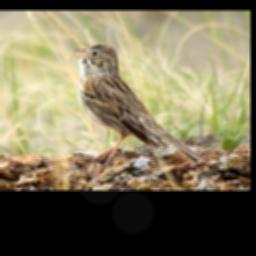Sparrow: (64, 38, 211, 172)
